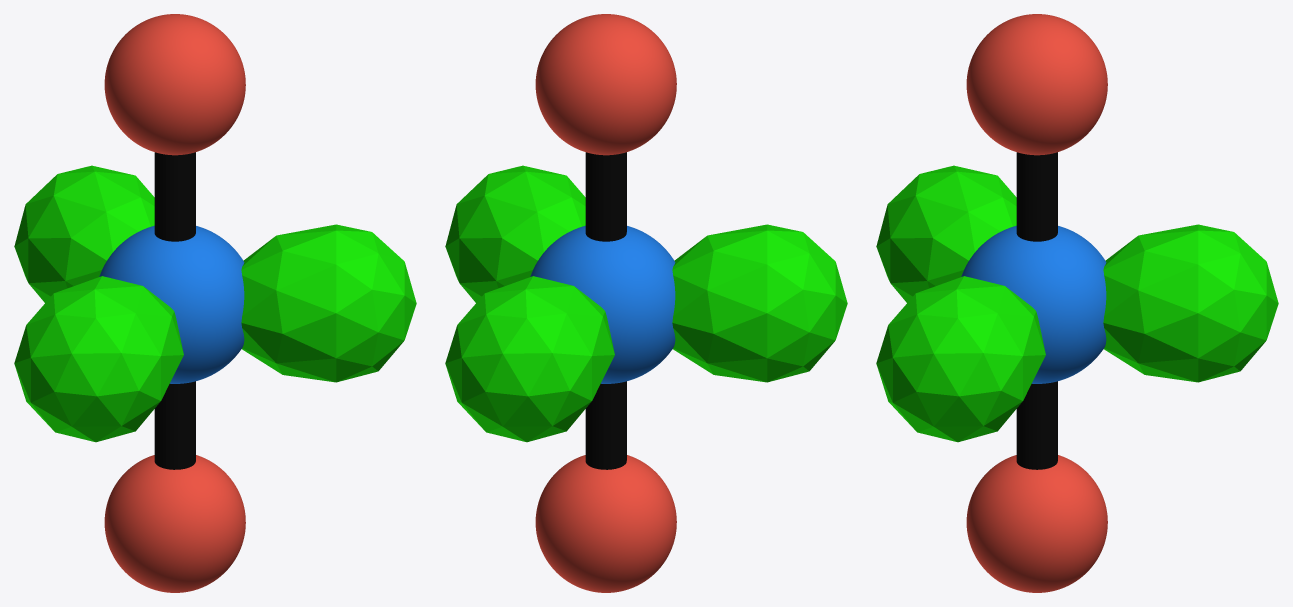
Rendered from chem stru_tbp_linear_3lp.glb.
3 renders of one model, left to right at view 1: azimuth 30°, elevation 25°; view 2: azimuth 150°, elevation 25°; view 3: azimuth 270°, elevation 25°, orthographic.
Visible parts, largest first — view 1: Icosphere, Icosphere.001, Sphere.004, Sphere.005, Sphere, Icosphere.002, Cylinder.003, Cylinder.004; view 2: Icosphere.001, Icosphere.002, Sphere.004, Sphere.005, Sphere, Icosphere, Cylinder.003, Cylinder.004; view 3: Icosphere.002, Icosphere, Sphere.004, Sphere.005, Sphere, Icosphere.001, Cylinder.003, Cylinder.004.
Boxes of the visible parts, box(x1,y1,x2,y2) form: Icosphere: box(241, 224, 416, 382); Icosphere.001: box(14, 276, 183, 442); Sphere.004: box(104, 14, 245, 155); Sphere.005: box(104, 455, 245, 592); Sphere: box(99, 225, 244, 383); Icosphere.002: box(14, 165, 154, 302); Cylinder.003: box(154, 152, 195, 241); Cylinder.004: box(154, 381, 195, 469); Icosphere.001: box(672, 224, 847, 382); Icosphere.002: box(445, 276, 614, 442); Sphere.004: box(535, 14, 676, 155); Sphere.005: box(535, 455, 676, 592); Sphere: box(530, 225, 675, 383); Icosphere: box(445, 165, 585, 302); Cylinder.003: box(585, 152, 626, 241); Cylinder.004: box(585, 381, 626, 469); Icosphere.002: box(1103, 224, 1278, 382); Icosphere: box(876, 276, 1045, 442); Sphere.004: box(966, 14, 1107, 155); Sphere.005: box(966, 455, 1107, 592); Sphere: box(961, 225, 1106, 383); Icosphere.001: box(876, 165, 1016, 302); Cylinder.003: box(1016, 152, 1057, 241); Cylinder.004: box(1016, 381, 1057, 469).
Bounding box in the file's own units: 3.11 × 4.45 × 2.87.
